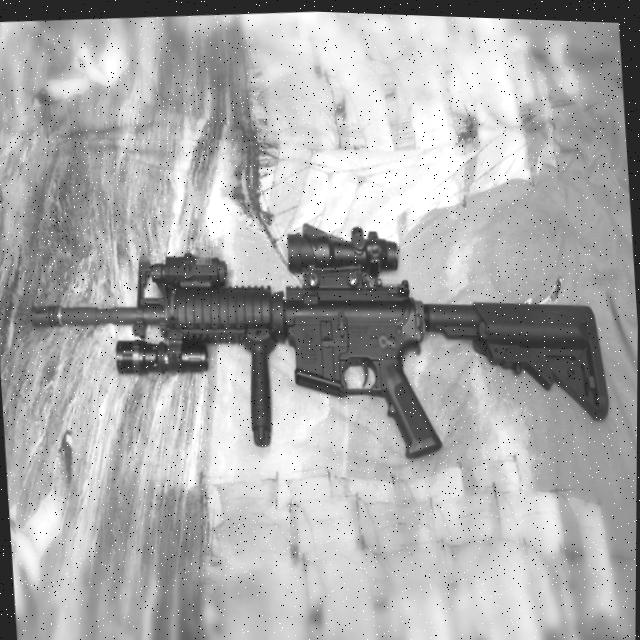firearm: (23, 189, 615, 488)
